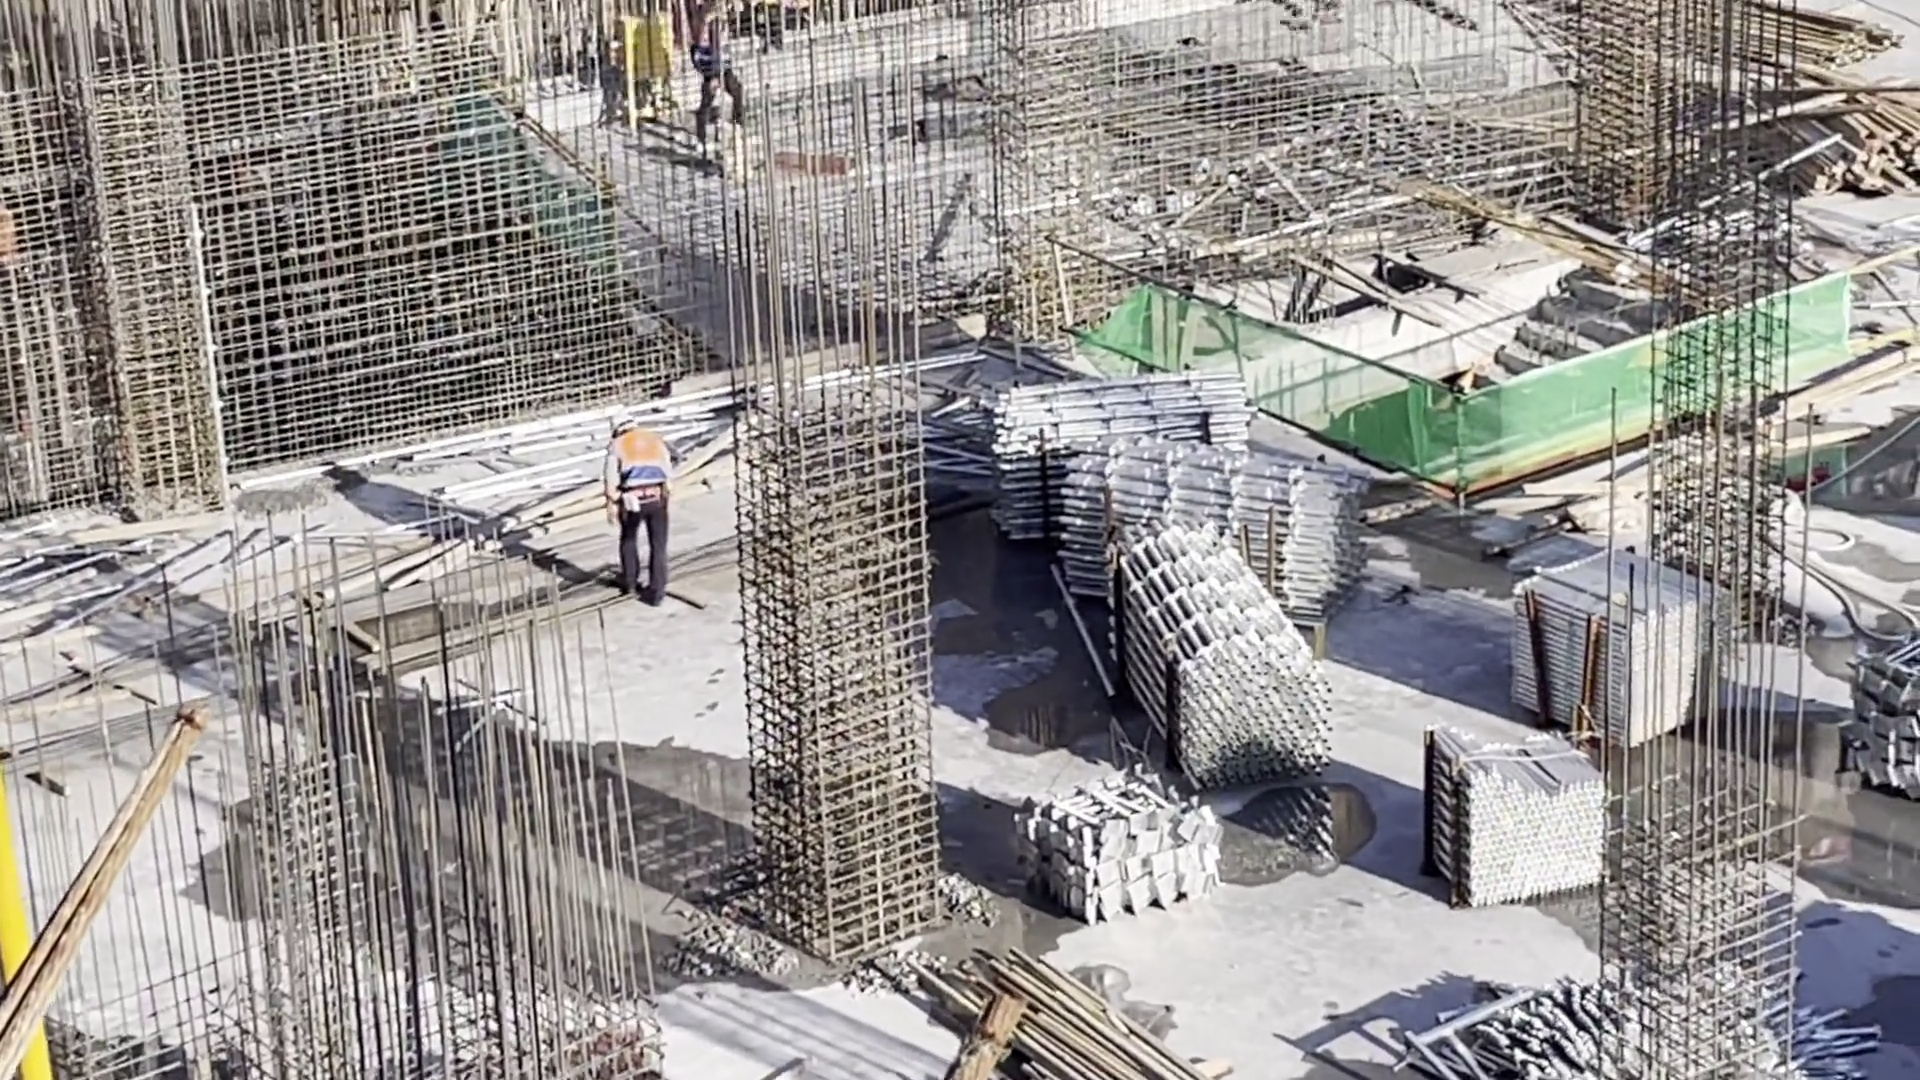ebox: (611, 15, 675, 113)
helmet: (608, 412, 641, 431)
person: (601, 409, 678, 609), (688, 1, 743, 135)
scaffold: (1044, 442, 1334, 604), (1129, 543, 1302, 812), (977, 393, 1251, 560), (1458, 969, 1850, 1080), (1531, 589, 1723, 728), (1463, 752, 1615, 924)
vest: (620, 439, 667, 499), (694, 19, 730, 66)
wood: (1638, 1, 1861, 68), (1756, 97, 1920, 180)
